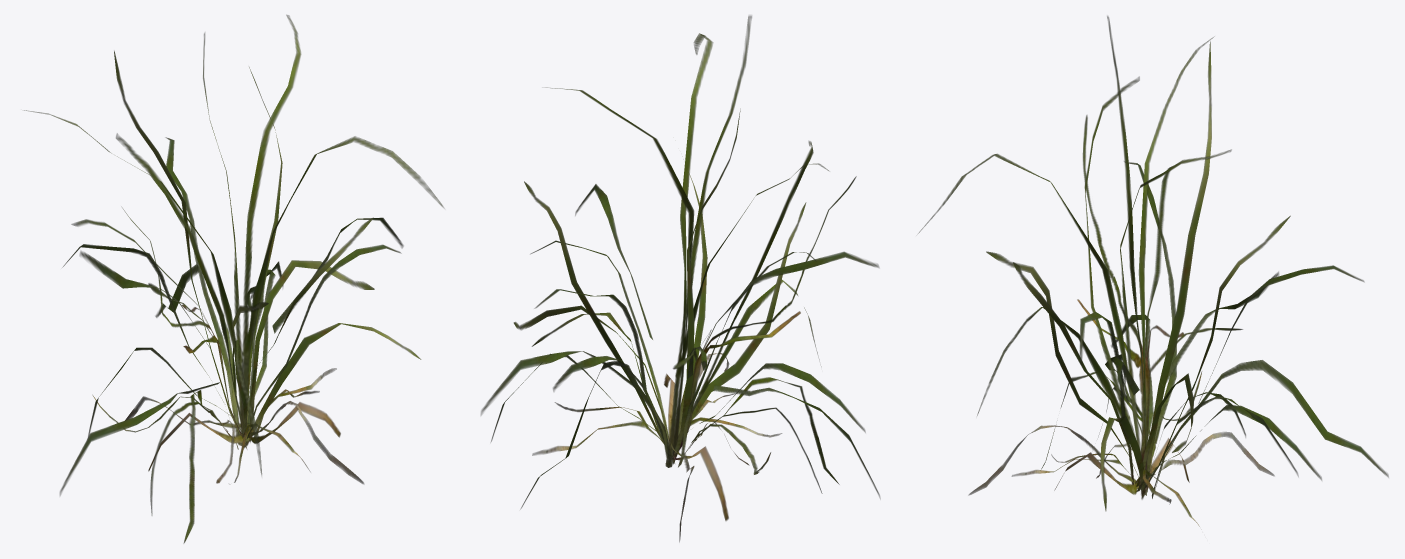
Rendered from grass_tall_b.glb.
3 views of the same model, side by side, from view 1: azimuth 30°, elevation 25°; view 2: azimuth 150°, elevation 25°; view 3: azimuth 270°, elevation 25° (orthographic). The views are drawn at different scales.
Parts seen in each view (by area): view 1: grass_medium_01_small_b_LOD0.001; view 2: grass_medium_01_small_b_LOD0.001; view 3: grass_medium_01_small_b_LOD0.001.
Boxes of the visible parts, x1=… form: grass_medium_01_small_b_LOD0.001: x1=24, y1=15, x2=444, y2=543; grass_medium_01_small_b_LOD0.001: x1=481, y1=15, x2=880, y2=542; grass_medium_01_small_b_LOD0.001: x1=918, y1=16, x2=1388, y2=526.
Bounding box in the file's own units: 2.69 × 3.44 × 3.08.
Materials: 1 (1 with a texture image).
